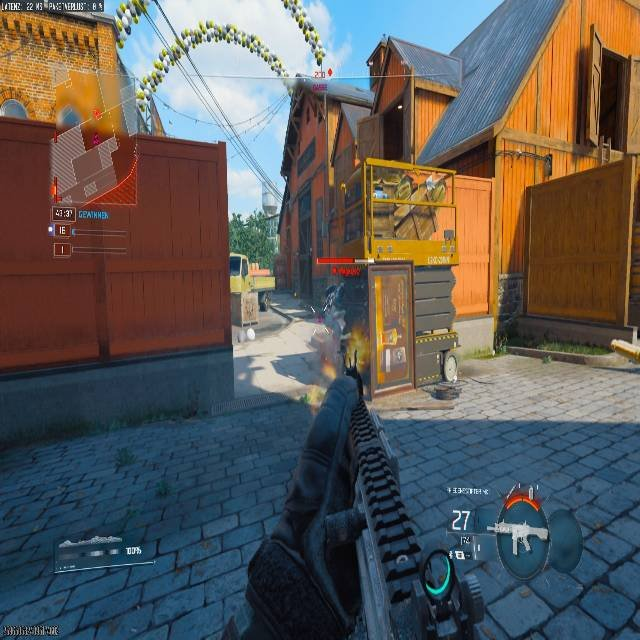player: (319, 282, 349, 359)
